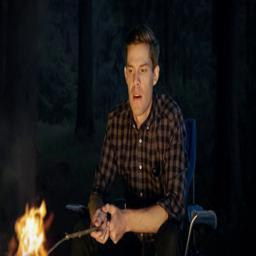fire: (14, 201, 49, 256)
